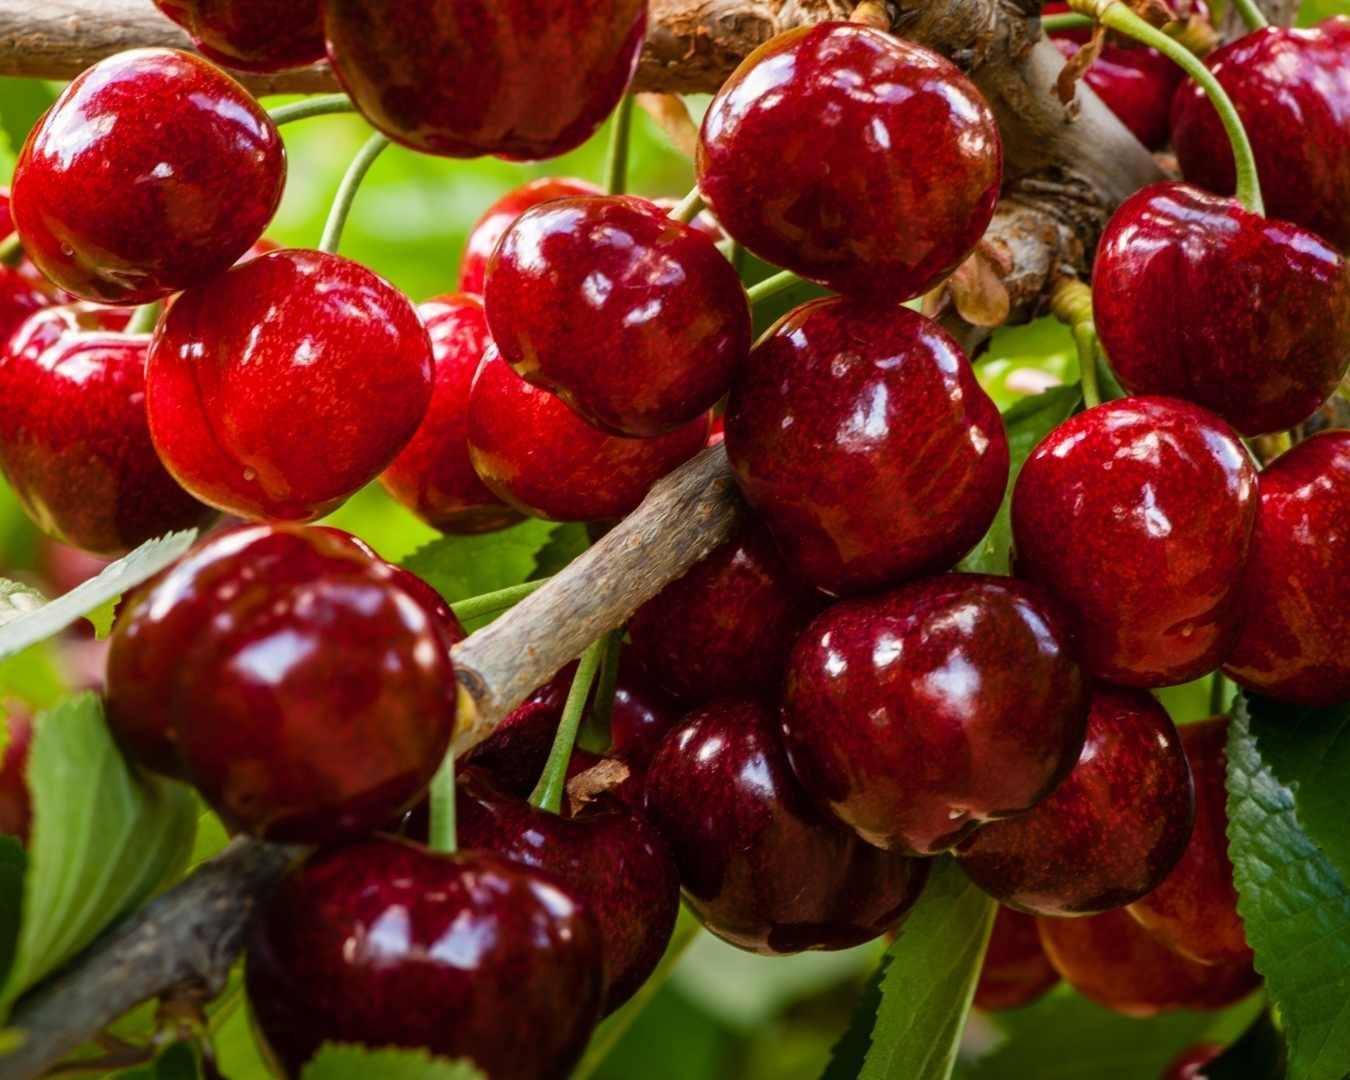apple: (106, 523, 461, 843), (775, 572, 1094, 861), (698, 28, 1007, 294), (145, 246, 432, 532), (728, 296, 1011, 580), (1011, 398, 1259, 683), (20, 45, 281, 300), (482, 192, 748, 433), (1089, 187, 1350, 432), (4, 293, 215, 560), (974, 678, 1196, 916), (1134, 10, 1350, 242)
